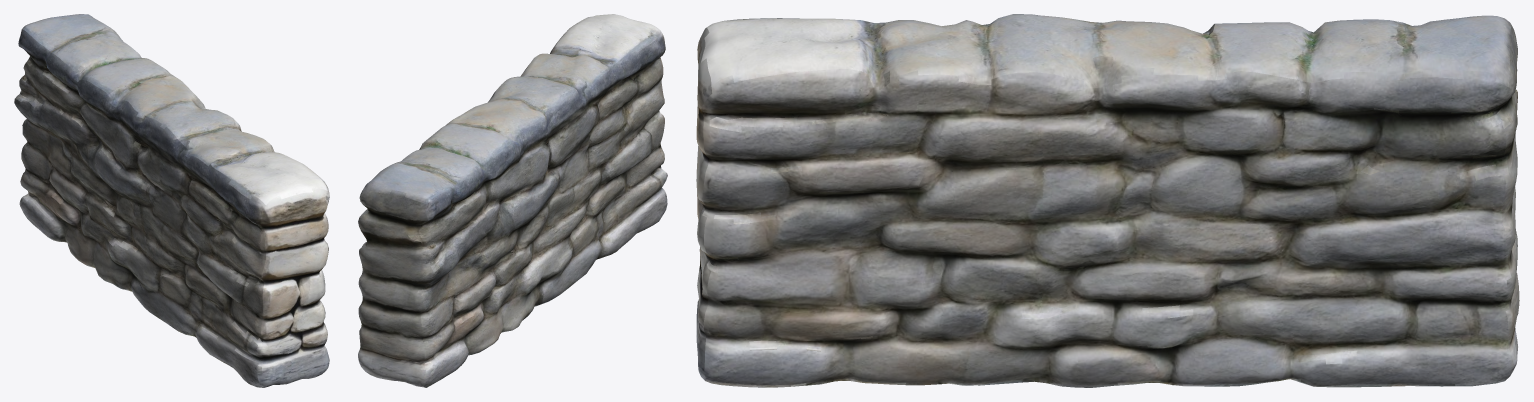
File: wall__stone-wall.glb
3 renders of one model, left to right at view 1: azimuth 30°, elevation 25°; view 2: azimuth 150°, elevation 25°; view 3: azimuth 270°, elevation 25°, orthographic. The views are drawn at different scales.
Size of the model in its own units: 0.3921 by 0.8886 by 2.
1 material, 1 textured.
